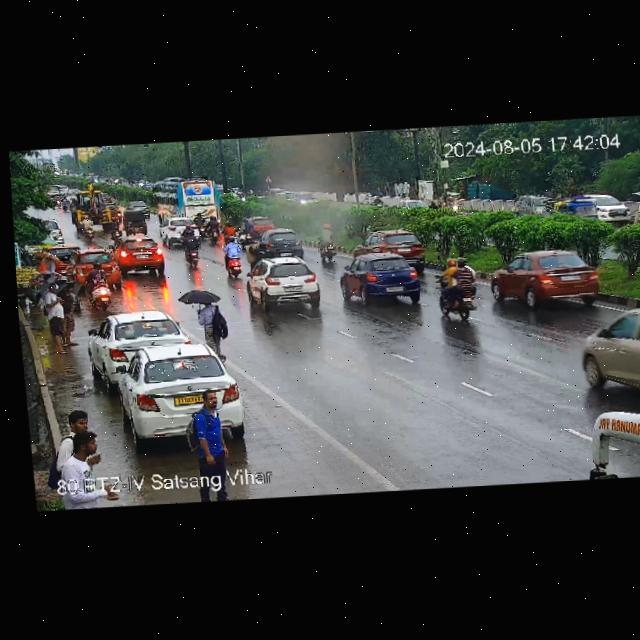bus: (578, 400, 640, 479), (151, 172, 226, 222)
car: (109, 345, 243, 444), (485, 244, 606, 312), (569, 300, 640, 386), (89, 309, 185, 372), (339, 252, 429, 309), (246, 257, 326, 313), (356, 228, 427, 263), (73, 245, 123, 292), (116, 237, 167, 277), (255, 228, 306, 260), (554, 193, 599, 229), (595, 191, 630, 221), (162, 215, 199, 238), (516, 195, 555, 216), (123, 209, 147, 236), (255, 215, 276, 237), (124, 199, 150, 212)
motorcycle: (429, 255, 484, 323), (84, 257, 115, 308), (312, 223, 339, 264), (576, 461, 632, 480), (199, 212, 227, 243), (178, 222, 203, 250), (181, 234, 202, 264), (238, 215, 256, 239), (81, 212, 95, 240), (107, 214, 123, 238), (223, 222, 235, 236)
person: (187, 389, 231, 461), (53, 409, 95, 466), (63, 430, 108, 478), (39, 279, 65, 354)
truck: (69, 180, 112, 236), (194, 295, 229, 346), (58, 282, 80, 343), (41, 256, 58, 273), (32, 257, 46, 271)
